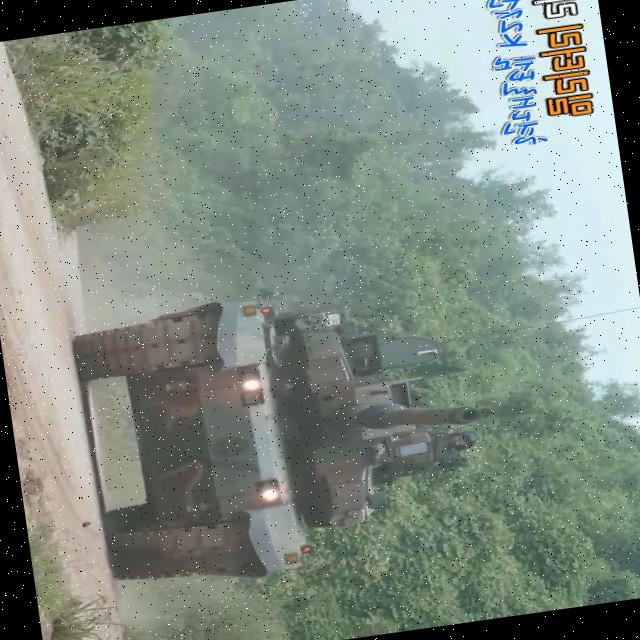korea tank: (73, 268, 510, 600)
